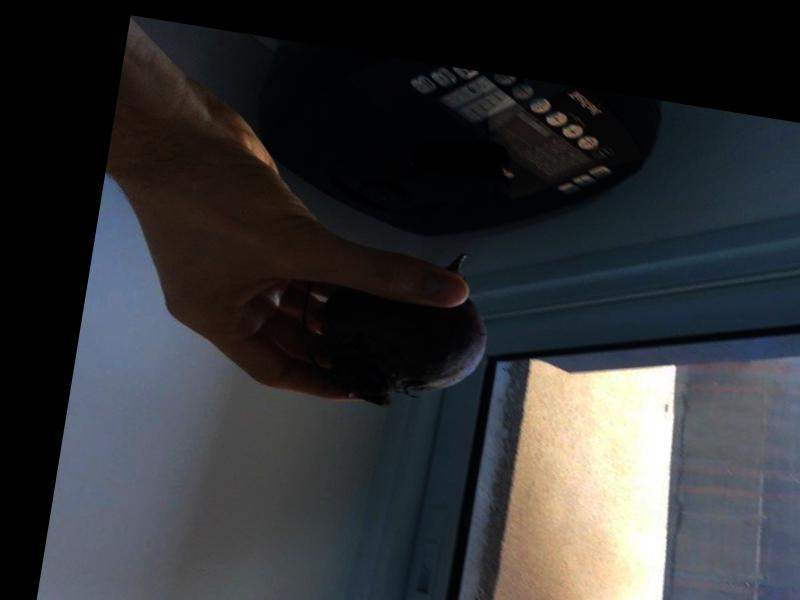Beet: (292, 231, 499, 420)
